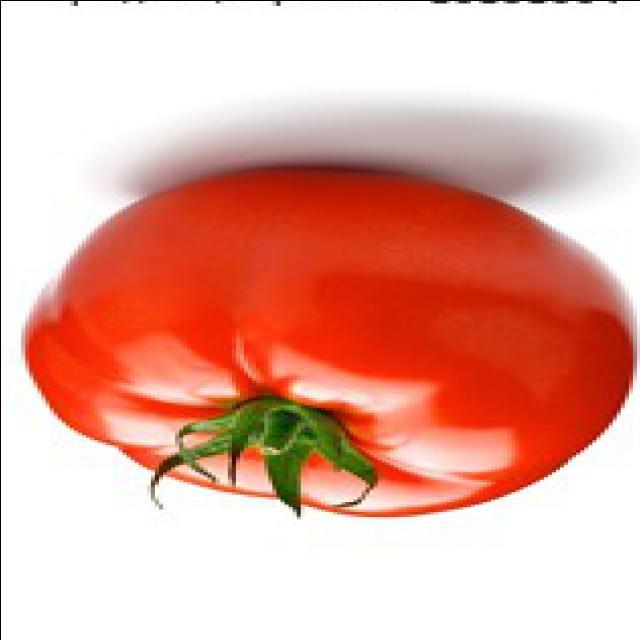Tomato: (23, 165, 640, 521)
